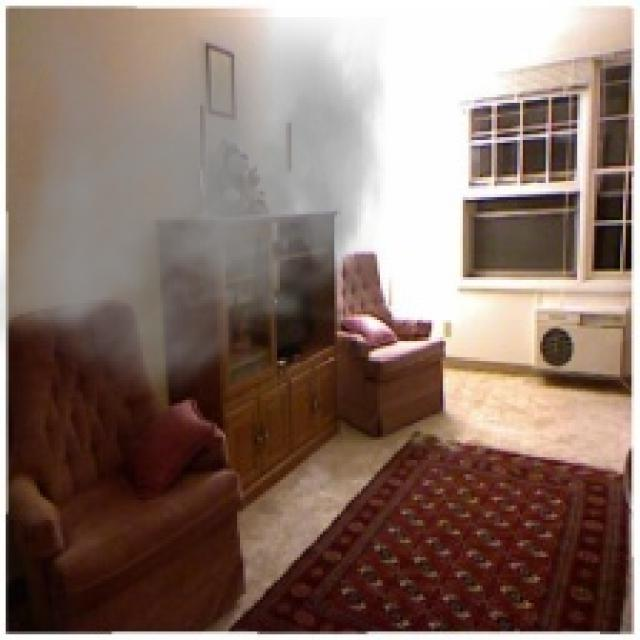smoke: (0, 17, 386, 406)
